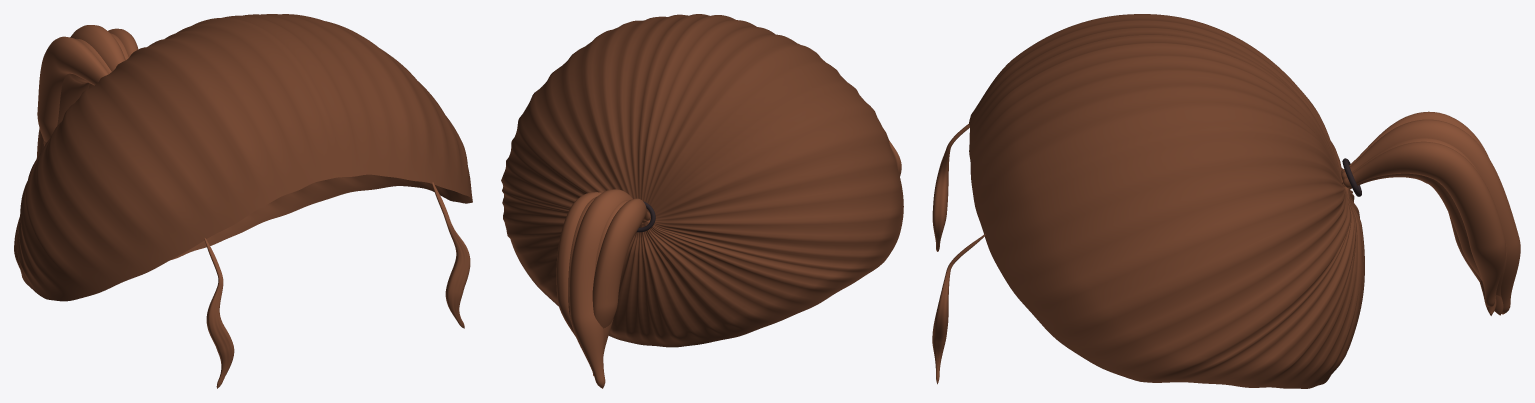
Rendered from Feminine-cap-hair.glb.
3 renders of one model, left to right at view 1: azimuth 30°, elevation 25°; view 2: azimuth 150°, elevation 25°; view 3: azimuth 270°, elevation 25°, orthographic. The views are drawn at different scales.
Parts seen in each view (by area): view 1: Hair / swept roots220, Hair / rounded tail220 0, Hair / adjustable front216 1, Hair / adjustable front216 -1, Hair / rounded tail220 2, Hair / rounded tail220 1; view 2: Hair / swept roots220, Hair / rounded tail220 2, Hair / rounded tail220 0, Hair / rounded tail220 4, Hair / rounded tail220 1; view 3: Hair / swept roots220, Hair / rounded tail220 4, Hair / rounded tail220 2, Hair / rounded tail220 3, Hair / adjustable front216 1, Hair / adjustable front216 -1, Hair / rounded tail220 0.
Boxes of the visible parts, x1,y1,x2,y2 form: Hair / swept roots220: [14, 14, 472, 301]; Hair / rounded tail220 0: [37, 36, 108, 142]; Hair / adjustable front216 1: [432, 182, 470, 328]; Hair / adjustable front216 -1: [204, 238, 234, 388]; Hair / rounded tail220 2: [36, 25, 125, 158]; Hair / rounded tail220 1: [43, 38, 111, 146]; Hair / swept roots220: [501, 14, 903, 347]; Hair / rounded tail220 2: [569, 189, 632, 388]; Hair / rounded tail220 0: [592, 198, 650, 375]; Hair / rounded tail220 4: [556, 192, 601, 336]; Hair / rounded tail220 1: [594, 200, 646, 353]; Hair / swept roots220: [969, 14, 1364, 388]; Hair / rounded tail220 4: [1343, 141, 1506, 306]; Hair / rounded tail220 2: [1341, 119, 1520, 314]; Hair / rounded tail220 3: [1343, 138, 1507, 296]; Hair / adjustable front216 1: [932, 233, 985, 384]; Hair / adjustable front216 -1: [932, 124, 969, 251]; Hair / rounded tail220 0: [1341, 111, 1496, 315].
Bounding box in the file's own units: 0.9758 × 0.6634 × 1.1.
